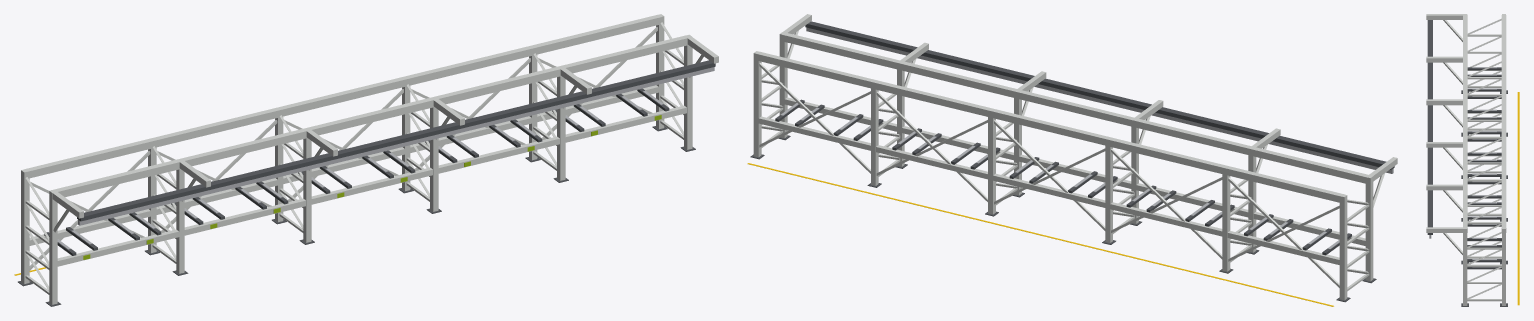
Rendered from lp_rack_1L_10S.glb.
3 renders of one model, left to right at view 1: azimuth 30°, elevation 25°; view 2: azimuth 150°, elevation 25°; view 3: azimuth 270°, elevation 25°, orthographic. The views are drawn at different scales.
Visible parts, largest first — view 1: rack_frame__truss_white, rack_frame__steel_dark, rack_frame__steel; view 2: rack_frame__truss_white, rack_frame__steel_dark, rack_frame__steel, rack_frame__yellow; view 3: rack_frame__truss_white, rack_frame__steel_dark, rack_frame__steel, rack_frame__yellow.
Boxes of the visible parts, bbox=[...] form: rack_frame__truss_white: bbox=[21, 14, 718, 304]; rack_frame__steel_dark: bbox=[18, 60, 715, 306]; rack_frame__steel: bbox=[57, 67, 714, 249]; rack_frame__truss_white: bbox=[753, 14, 1397, 300]; rack_frame__steel_dark: bbox=[750, 21, 1394, 302]; rack_frame__steel: bbox=[780, 27, 1393, 249]; rack_frame__yellow: bbox=[747, 163, 1333, 306]; rack_frame__truss_white: bbox=[1426, 14, 1506, 305]; rack_frame__steel_dark: bbox=[1427, 20, 1507, 306]; rack_frame__steel: bbox=[1429, 67, 1496, 267]; rack_frame__yellow: bbox=[1517, 92, 1519, 305].
Size of the model in its own units: 13.2 by 2.2 by 2.4.
